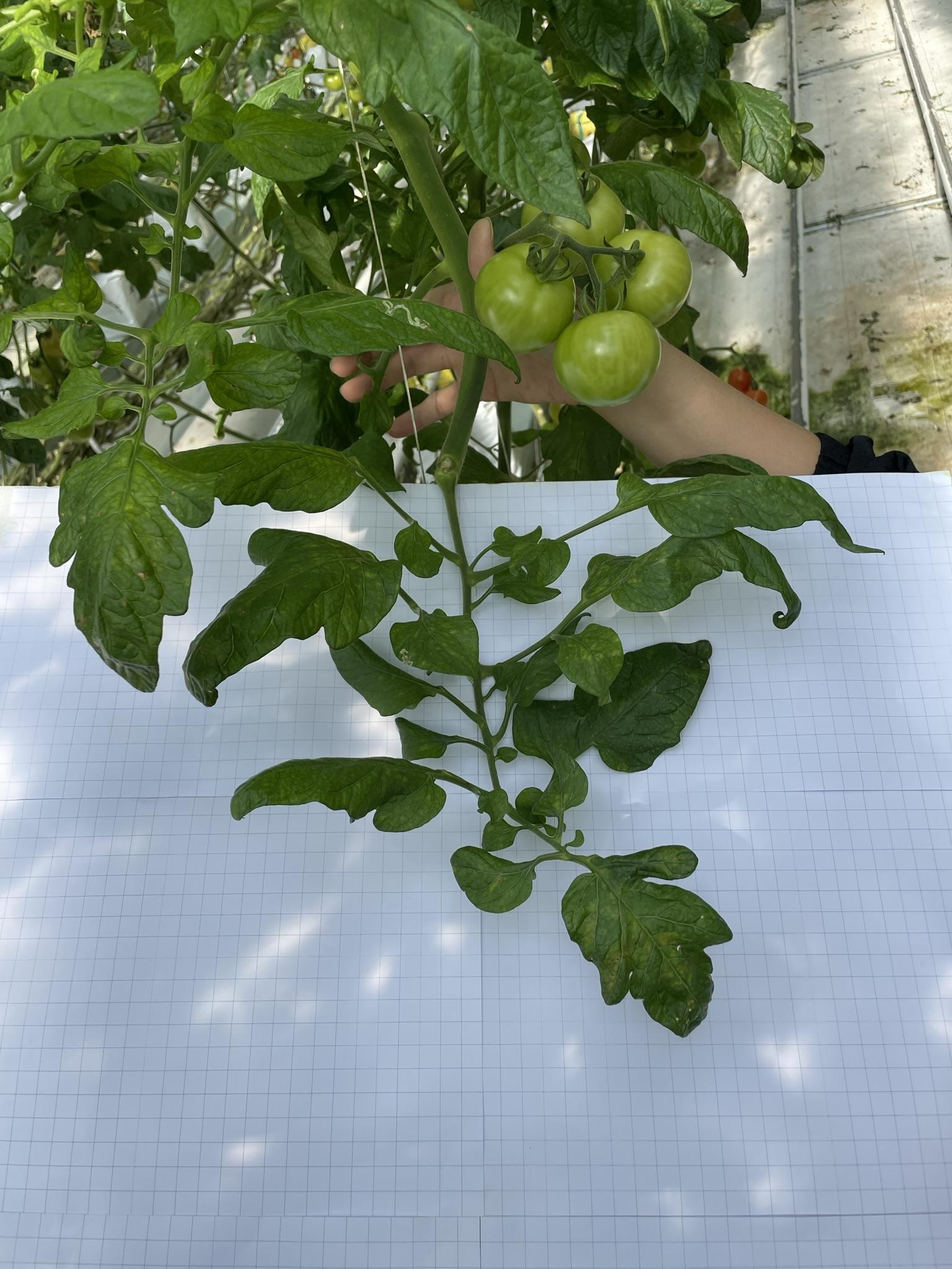Iron Deficiency: (293, 0, 597, 228), (45, 432, 222, 696), (181, 524, 403, 711), (560, 844, 734, 1038), (614, 467, 889, 561), (568, 540, 822, 637), (291, 288, 522, 386), (225, 752, 449, 835), (159, 437, 367, 515), (226, 101, 394, 185), (206, 340, 305, 414), (387, 606, 482, 682), (452, 843, 539, 915), (550, 622, 623, 706)
Leaf_Miner: (377, 294, 434, 334), (396, 643, 417, 670)
